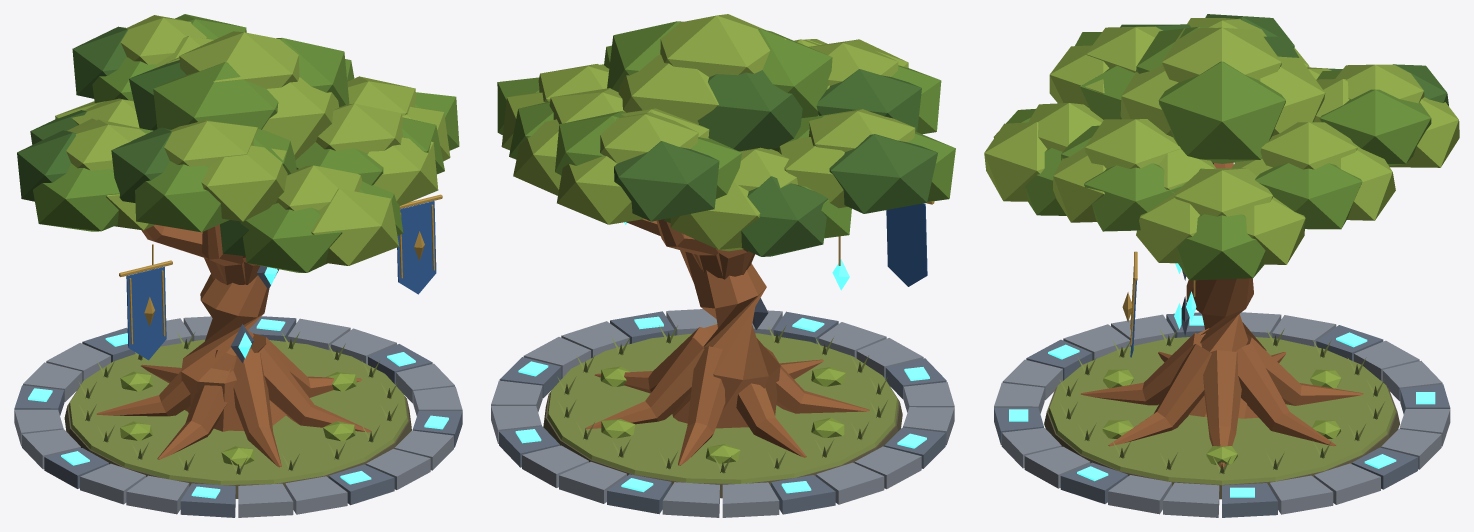
The model's file is WayfarerTree.glb.
The picture shows the model from 3 angles, left to right: view 1: azimuth 30°, elevation 25°; view 2: azimuth 150°, elevation 25°; view 3: azimuth 270°, elevation 25°; orthographic projection. The views are drawn at different scales.
Visible parts, largest first — view 1: Island grass, Twisting main trunk, Angular foliage crown.043, Angular foliage crown.033, Angular foliage crown.034, Angular foliage crown.029, Angular foliage crown.028, Crown top.008, Angular foliage crown.023, Angular foliage crown.044, Crown top.007, Crown top.005 (+61 smaller); view 2: Island grass, Twisting main trunk, Angular foliage crown.022, Angular foliage crown.012, Angular foliage crown.042, Crown top.008, Angular foliage crown.017, Angular foliage crown.041, Angular foliage crown.027, Angular foliage crown.043, Angular foliage crown.011, Angular foliage crown.016 (+54 smaller); view 3: Island grass, Angular foliage crown.040, Angular foliage crown.010, Angular foliage crown.005, Crown top.008, Angular foliage crown, Twisting main trunk, Angular foliage crown.035, Angular foliage crown.034, Crown top.007, Crown top, Spreading buttress root.001 (+48 smaller).
Boxes of the visible parts, x1=… form: Island grass: x1=68, y1=339, x2=408, y2=484; Twisting main trunk: x1=181, y1=274, x2=286, y2=431; Angular foliage crown.043: x1=153, y1=62, x2=278, y2=129; Angular foliage crown.033: x1=240, y1=203, x2=342, y2=272; Angular foliage crown.034: x1=311, y1=188, x2=399, y2=265; Angular foliage crown.029: x1=201, y1=145, x2=287, y2=221; Angular foliage crown.028: x1=135, y1=161, x2=229, y2=232; Crown top.008: x1=179, y1=31, x2=299, y2=88; Angular foliage crown.023: x1=33, y1=163, x2=119, y2=231; Angular foliage crown.044: x1=262, y1=77, x2=339, y2=160; Crown top.007: x1=316, y1=103, x2=403, y2=152; Crown top.005: x1=164, y1=120, x2=257, y2=166; Island grass: x1=547, y1=333, x2=898, y2=483; Twisting main trunk: x1=672, y1=250, x2=780, y2=428; Angular foliage crown.022: x1=829, y1=134, x2=937, y2=213; Angular foliage crown.012: x1=614, y1=141, x2=719, y2=221; Angular foliage crown.042: x1=697, y1=70, x2=802, y2=151; Crown top.008: x1=660, y1=14, x2=786, y2=77; Angular foliage crown.017: x1=741, y1=176, x2=828, y2=256; Angular foliage crown.041: x1=618, y1=54, x2=718, y2=124; Angular foliage crown.027: x1=816, y1=69, x2=921, y2=131; Angular foliage crown.043: x1=758, y1=29, x2=832, y2=117; Angular foliage crown.011: x1=557, y1=155, x2=644, y2=224; Angular foliage crown.016: x1=670, y1=180, x2=760, y2=251; Island grass: x1=1048, y1=337, x2=1395, y2=484; Angular foliage crown.040: x1=1158, y1=61, x2=1285, y2=163; Angular foliage crown.010: x1=1319, y1=89, x2=1431, y2=165; Angular foliage crown.005: x1=1255, y1=163, x2=1362, y2=229; Crown top.008: x1=1162, y1=27, x2=1281, y2=82; Angular foliage crown: x1=1177, y1=214, x2=1265, y2=280; Twisting main trunk: x1=1186, y1=278, x2=1266, y2=418; Angular foliage crown.035: x1=1084, y1=163, x2=1186, y2=231; Angular foliage crown.034: x1=984, y1=122, x2=1047, y2=201; Crown top.007: x1=1085, y1=119, x2=1180, y2=168; Crown top: x1=1174, y1=168, x2=1272, y2=216; Spreading buttress root.001: x1=1235, y1=343, x2=1335, y2=446.
Bounding box in the file's own units: 18.06 × 15.99 × 17.09.
